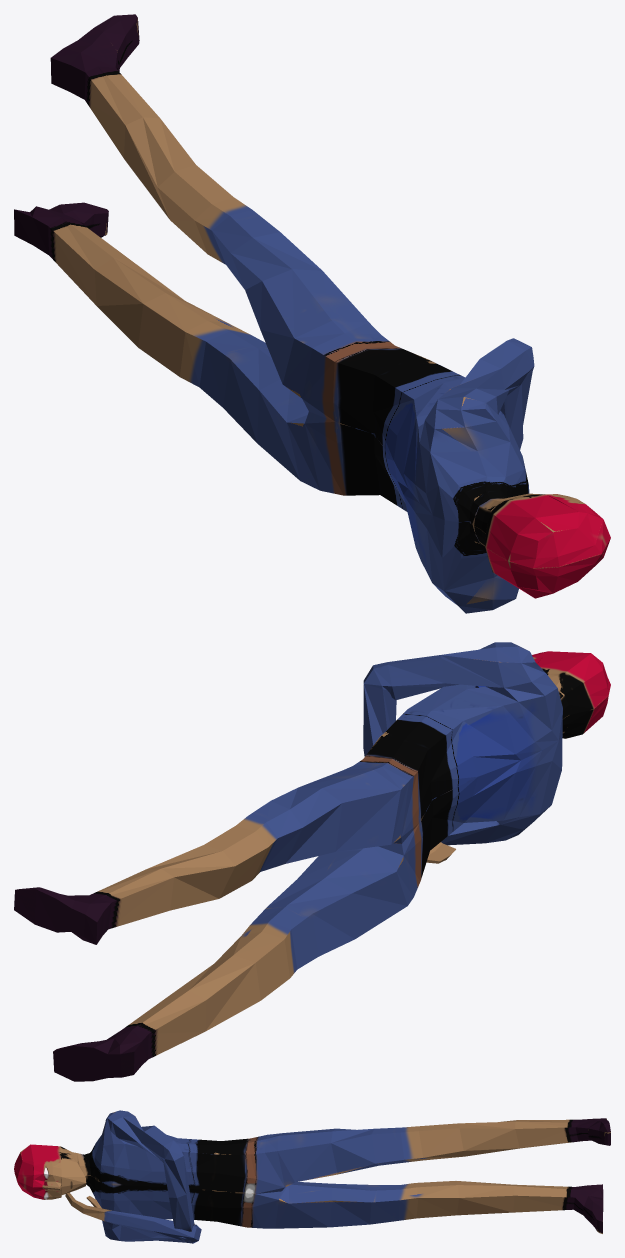
The model's file is mirrorman_000016.obj.
The picture shows the model from 3 angles, top to bottom: view 1: azimuth 30°, elevation 25°; view 2: azimuth 150°, elevation 25°; view 3: azimuth 270°, elevation 25°; orthographic projection. The views are drawn at different scales.
Visible parts, largest first — view 1: mirrorman_Cube.001_Material.001; view 2: mirrorman_Cube.001_Material.001; view 3: mirrorman_Cube.001_Material.001.
Boxes of the visible parts, x1=… form: mirrorman_Cube.001_Material.001: x1=14, y1=14, x2=610, y2=613; mirrorman_Cube.001_Material.001: x1=14, y1=642, x2=610, y2=1081; mirrorman_Cube.001_Material.001: x1=14, y1=1110, x2=610, y2=1243.
Bounding box in the file's own units: 0.3317 × 0.479 × 1.91.
